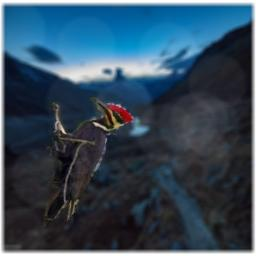Woodpecker: (43, 97, 134, 227)
